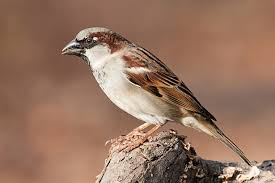hsparrow: (56, 20, 259, 172)
